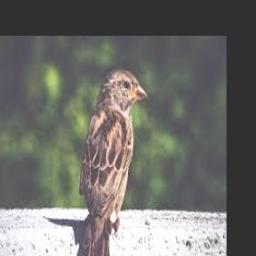Sparrow: (78, 68, 146, 256)
